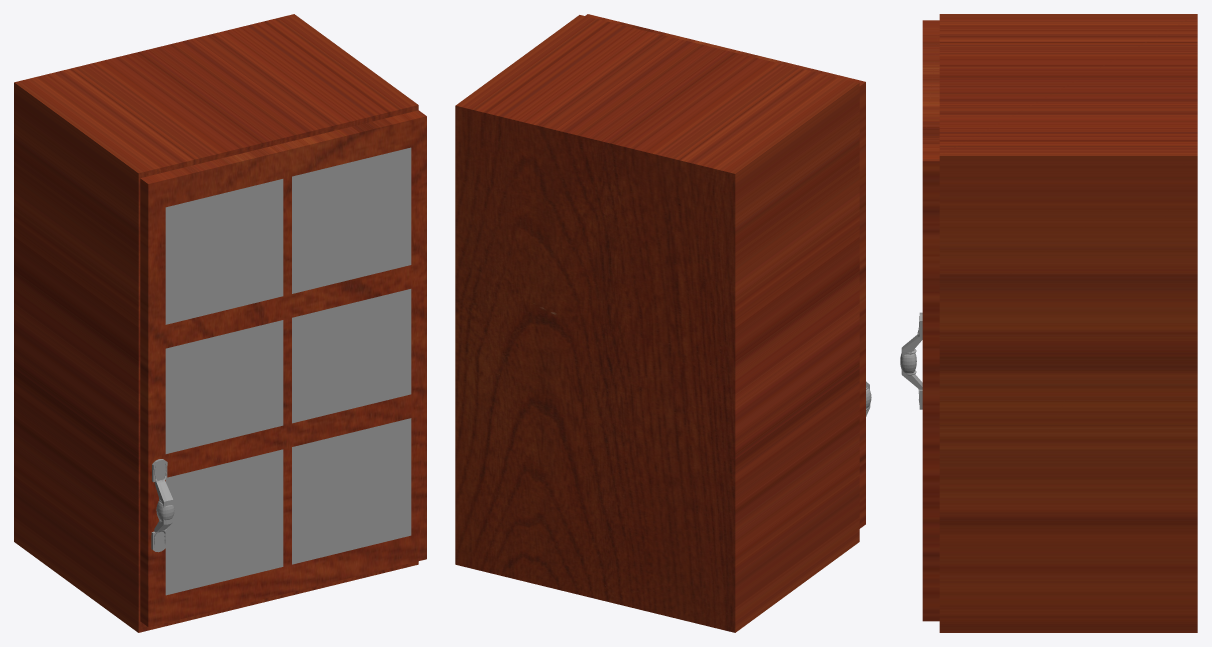
Rendered from 1GlassDoorCabinet.obj.
The picture shows the model from 3 angles, left to right: view 1: azimuth 30°, elevation 25°; view 2: azimuth 150°, elevation 25°; view 3: azimuth 270°, elevation 25°; orthographic projection. The views are drawn at different scales.
Parts seen in each view (by area): view 1: PolyMesh_9, sweethome3d_window_pane, PolyMesh_11_1, verthandle.002; view 2: PolyMesh_9, PolyMesh_11_1; view 3: PolyMesh_9, PolyMesh_11_1, verthandle.002.
Boxes of the visible parts, left/top/right/bottom form: PolyMesh_9: left=14, top=14, right=418, bottom=632; sweethome3d_window_pane: left=165, top=147, right=411, bottom=595; PolyMesh_11_1: left=140, top=110, right=426, bottom=626; verthandle.002: left=151, top=459, right=173, bottom=552; PolyMesh_9: left=455, top=15, right=859, bottom=632; PolyMesh_11_1: left=585, top=14, right=865, bottom=528; PolyMesh_9: left=939, top=14, right=1197, bottom=632; PolyMesh_11_1: left=922, top=20, right=939, bottom=621; verthandle.002: left=901, top=312, right=922, bottom=409.
Size of the model in its own units: 4.06 by 6.37 by 3.6.
